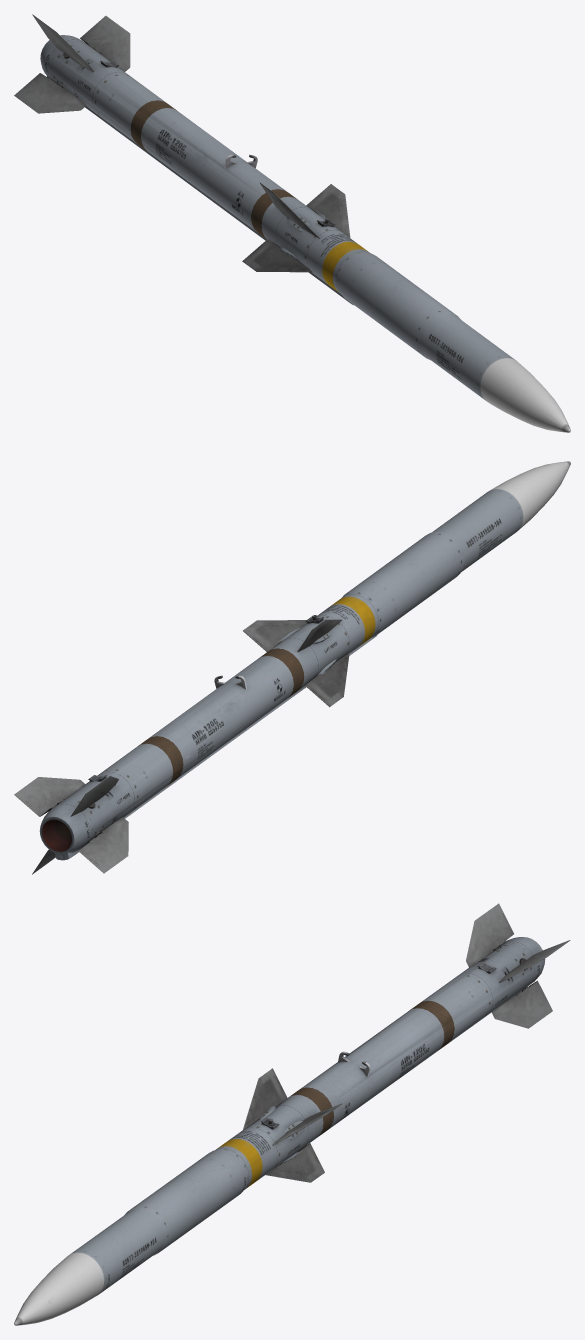
File: AIM-120C.FBX
3 renders of one model, top to bottom at view 1: azimuth 30°, elevation 25°; view 2: azimuth 150°, elevation 25°; view 3: azimuth 330°, elevation 25°, orthographic.
Parts seen in each view (by area): view 1: DrawCall_0002; view 2: DrawCall_0002; view 3: DrawCall_0002.
Boxes of the visible parts, x1,y1,x2,y2 form: DrawCall_0002: (14,14,570,432); DrawCall_0002: (14,461,570,874); DrawCall_0002: (14,903,570,1325).
Bounding box in the file's own units: 0.3764 × 0.3738 × 3.65.
